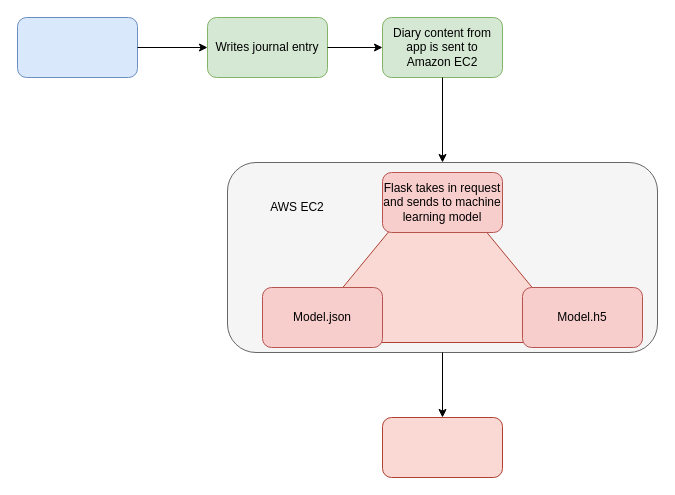
Some shapes in this 675 by 495 pixel diagram are drawn without their labels. The box of each missing label's shape, as (x1, y1, x2, y2) in pixels:
Happy or sad string (response) is sent back to the app: (382, 416, 502, 478)
User logs into application: (16, 16, 138, 78)
